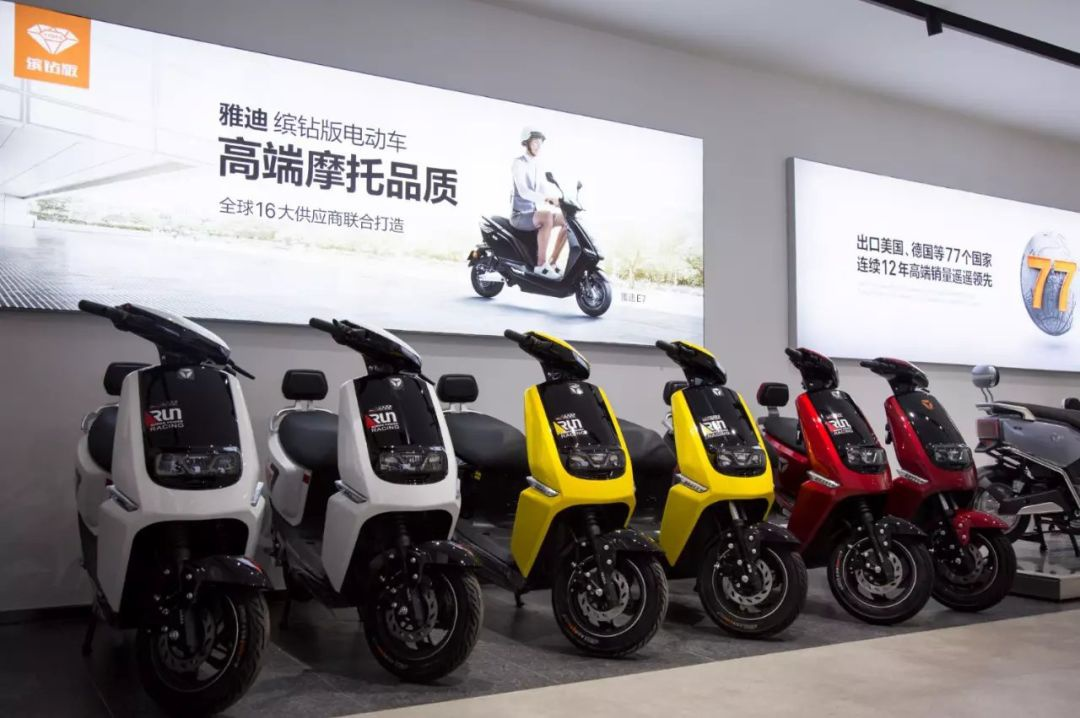non-vehicle: (71, 299, 271, 706), (276, 324, 468, 678), (468, 334, 630, 642), (638, 342, 764, 626), (769, 348, 893, 604), (896, 357, 1014, 597)
